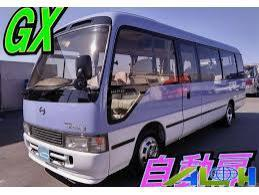bus: (23, 11, 244, 180)
